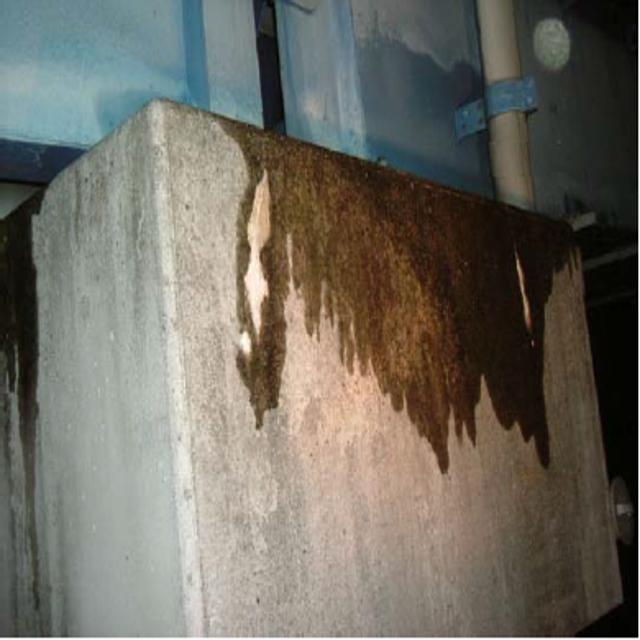leakage: (220, 94, 587, 496)
